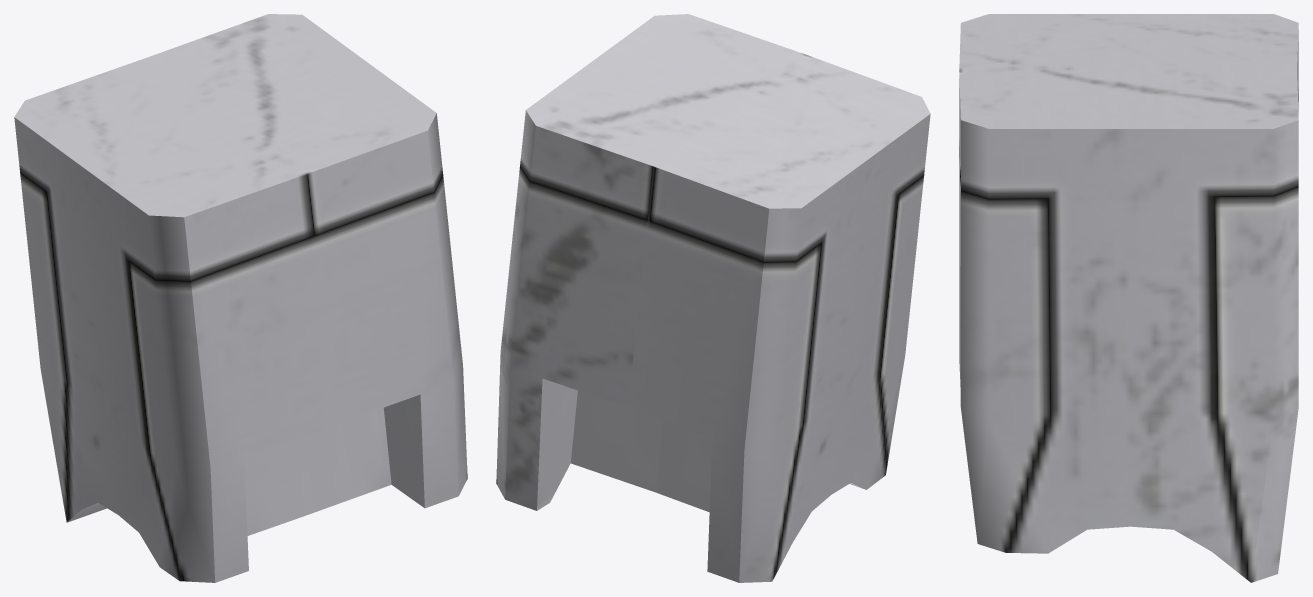
The model's file is uparm2.obj.
The picture shows the model from 3 angles, left to right: view 1: azimuth 30°, elevation 25°; view 2: azimuth 150°, elevation 25°; view 3: azimuth 270°, elevation 25°; orthographic projection. The views are drawn at different scales.
Visible parts, largest first — view 1: polySurface15 group1 uploads_files_730998_Gundam:polySurface666; view 2: polySurface15 group1 uploads_files_730998_Gundam:polySurface666; view 3: polySurface15 group1 uploads_files_730998_Gundam:polySurface666.
Boxes of the visible parts, <box> form: polySurface15 group1 uploads_files_730998_Gundam:polySurface666: <box>14,14,467,582</box>; polySurface15 group1 uploads_files_730998_Gundam:polySurface666: <box>496,14,930,582</box>; polySurface15 group1 uploads_files_730998_Gundam:polySurface666: <box>959,14,1298,582</box>.
Size of the model in its own units: 1.7 by 2.16 by 1.43.
Materials: 1 (1 with a texture image).
